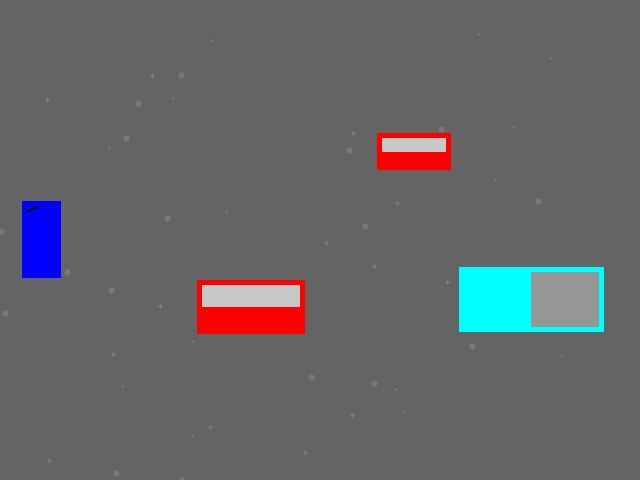car: (197, 280, 304, 333), (377, 133, 450, 169)
motorcycle: (22, 201, 60, 277)
truck: (459, 267, 603, 331)
